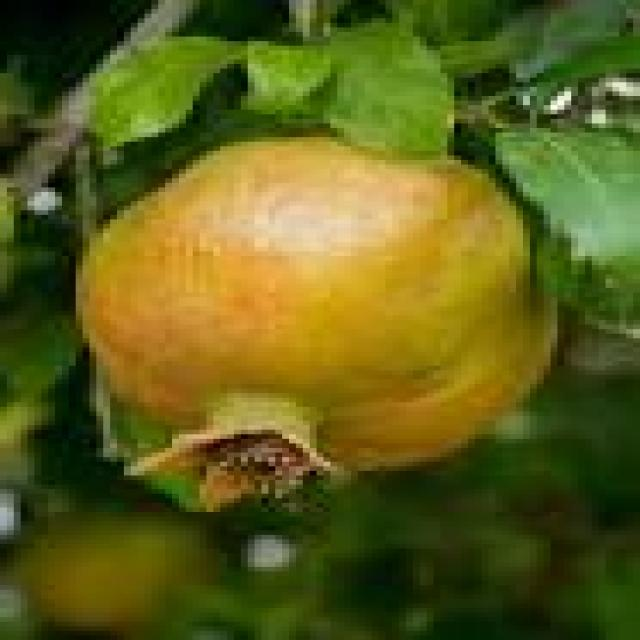Unripe: (71, 131, 561, 507)
